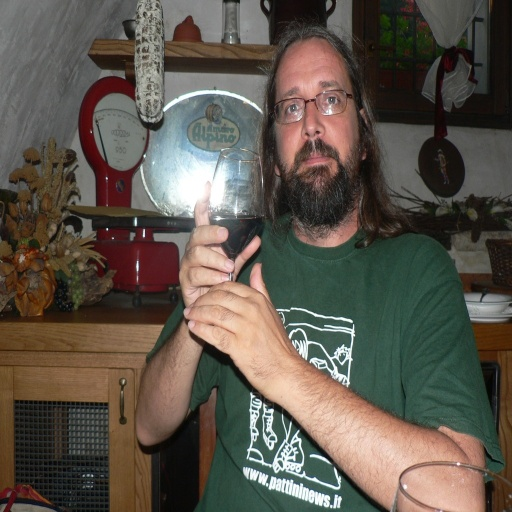hand: (172, 250, 337, 426), (176, 178, 262, 314)
